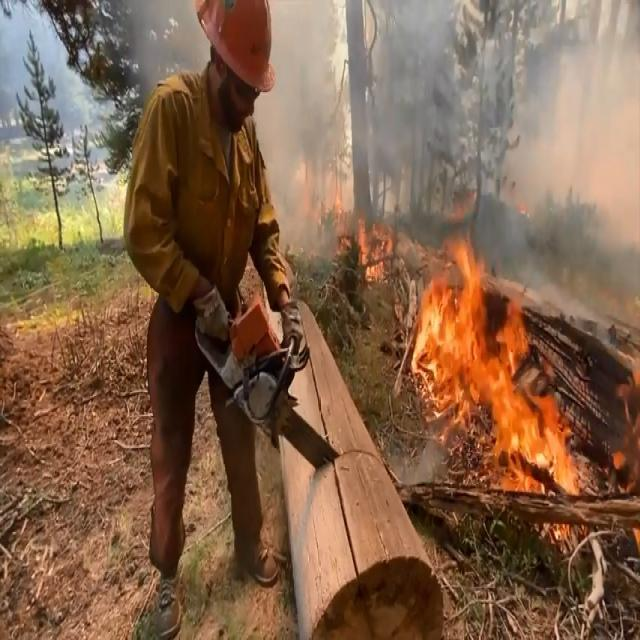Fire: (298, 174, 640, 538)
